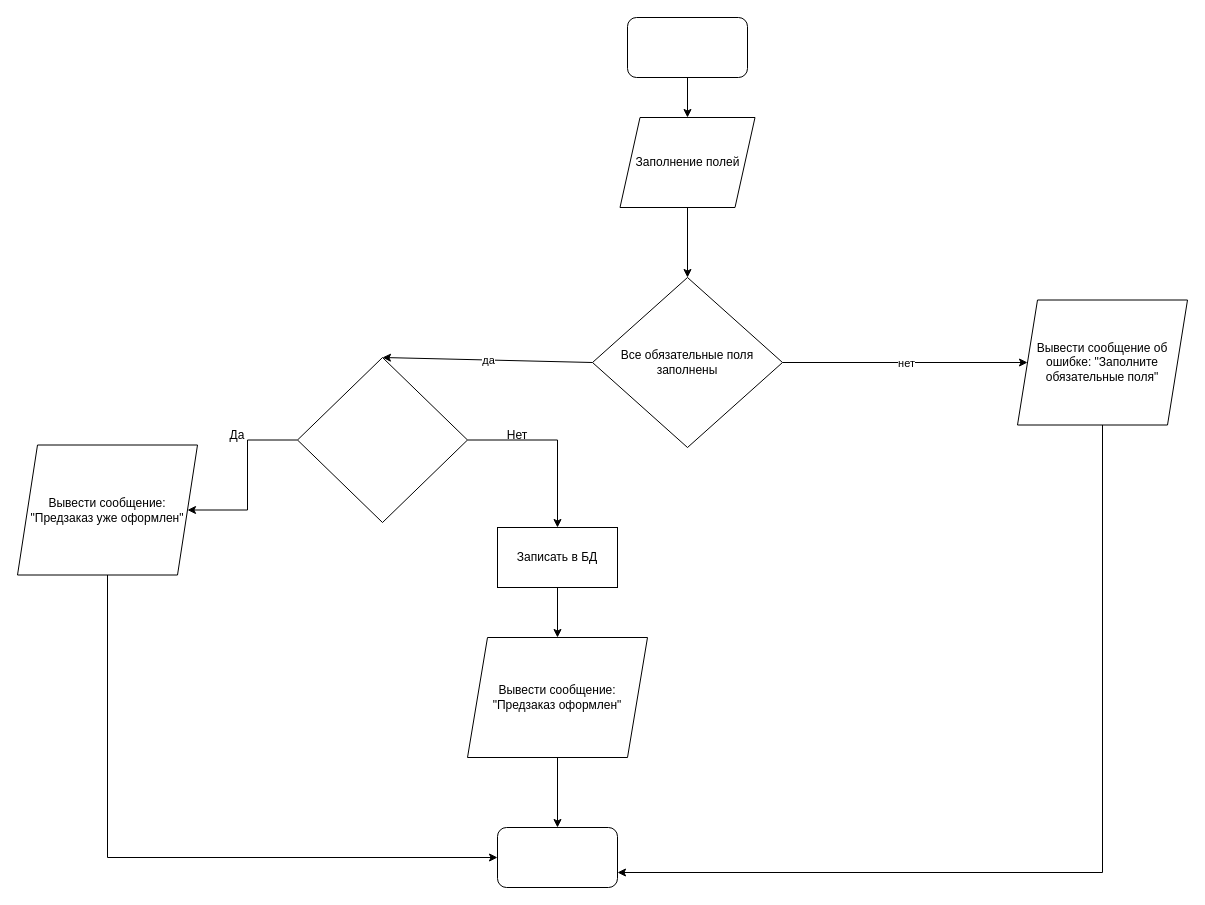
This 1205x905 diagram has some shape labels left out. The shapes that lost their labels are listed below. From the top down, each one's centre as x and y in pixels, then its label:
At [687,47]: "Начало".
At [382,439]: "Есть ли email в БД".
At [557,857]: "Конец".
